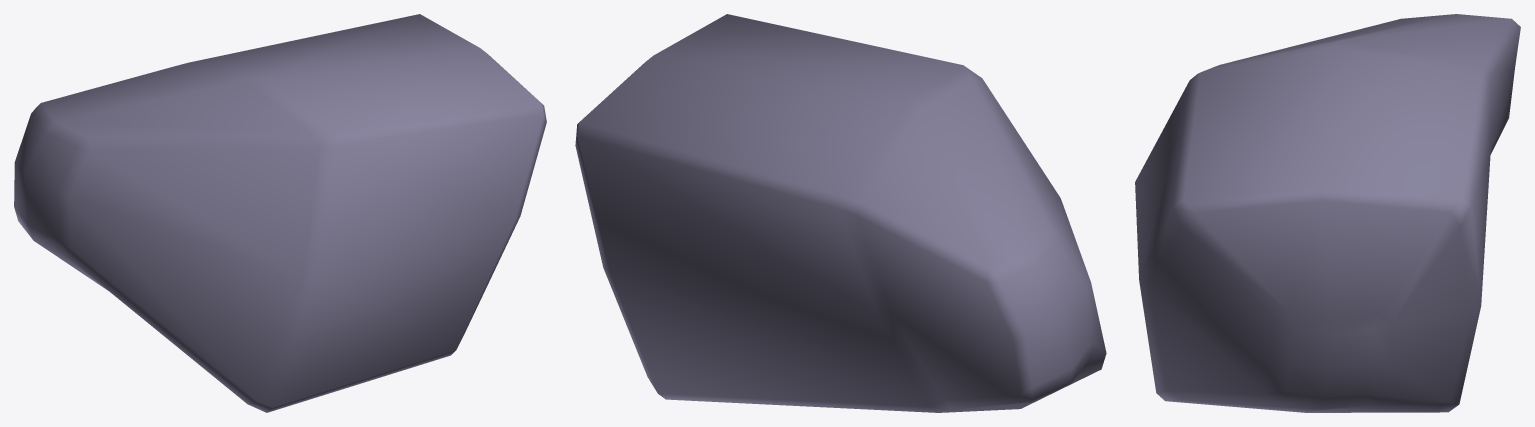
The model's file is Rock1.fbx.
The picture shows the model from 3 angles, left to right: view 1: azimuth 30°, elevation 25°; view 2: azimuth 150°, elevation 25°; view 3: azimuth 270°, elevation 25°; orthographic projection. The views are drawn at different scales.
Visible parts, largest first — view 1: Rock1; view 2: Rock1; view 3: Rock1.
Boxes of the visible parts, <box> form: Rock1: <box>14,14,546,412</box>; Rock1: <box>575,14,1106,412</box>; Rock1: <box>1135,14,1520,412</box>.
Bounding box in the file's own units: 345 × 206 × 243.
